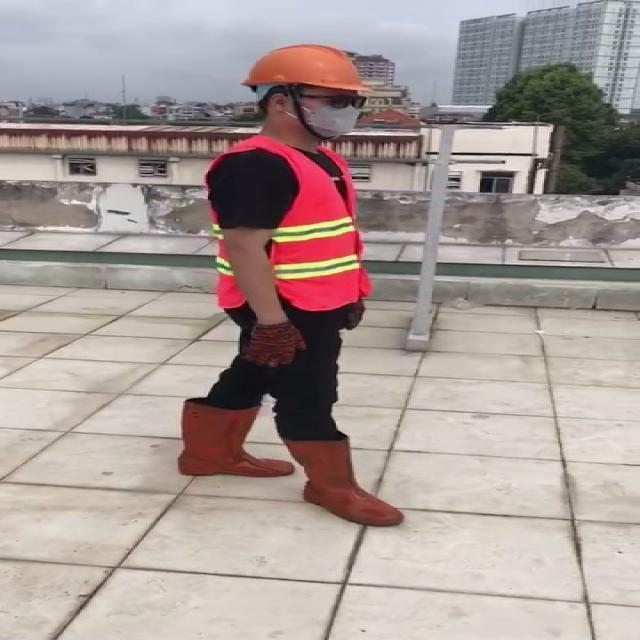gloves: (242, 309, 310, 374)
goggles: (291, 84, 370, 116)
helmet: (239, 42, 372, 94)
safety_vest: (213, 139, 368, 306)
